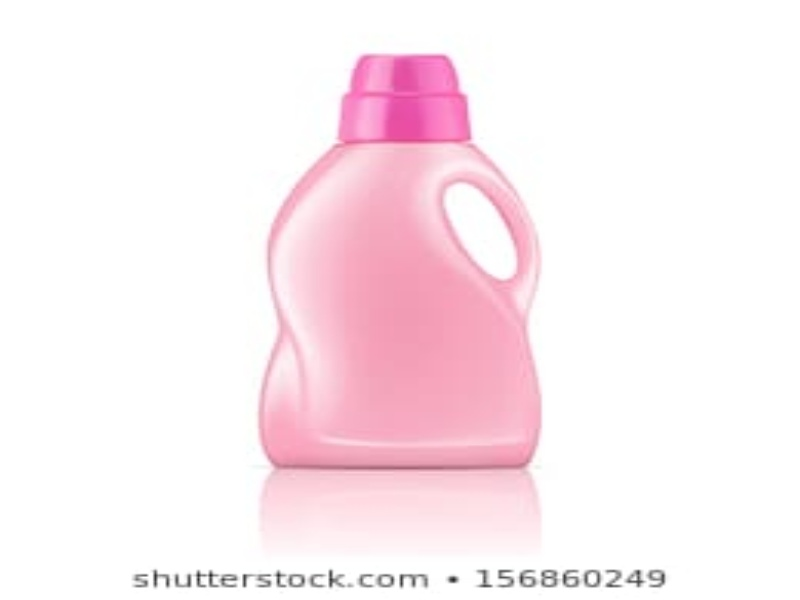bottle-cap: (335, 52, 476, 146)
detergent-bottle: (258, 51, 546, 473)
